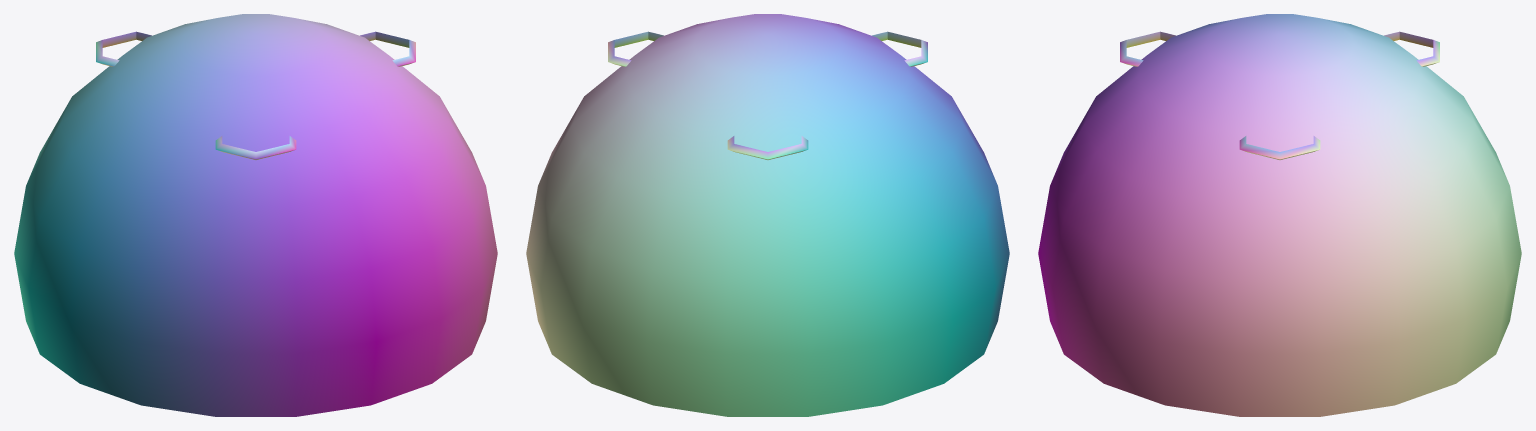
File: gad_bubble.glb
3 renders of one model, left to right at view 1: azimuth 30°, elevation 25°; view 2: azimuth 150°, elevation 25°; view 3: azimuth 270°, elevation 25°, orthographic.
Visible parts, largest first — view 1: bubble; view 2: bubble; view 3: bubble.
Boxes of the visible parts, x1=… form: bubble: x1=14, y1=14, x2=497, y2=416; bubble: x1=526, y1=14, x2=1009, y2=416; bubble: x1=1038, y1=14, x2=1521, y2=416.
Size of the model in its own units: 0.1379 by 0.1 by 0.14.
